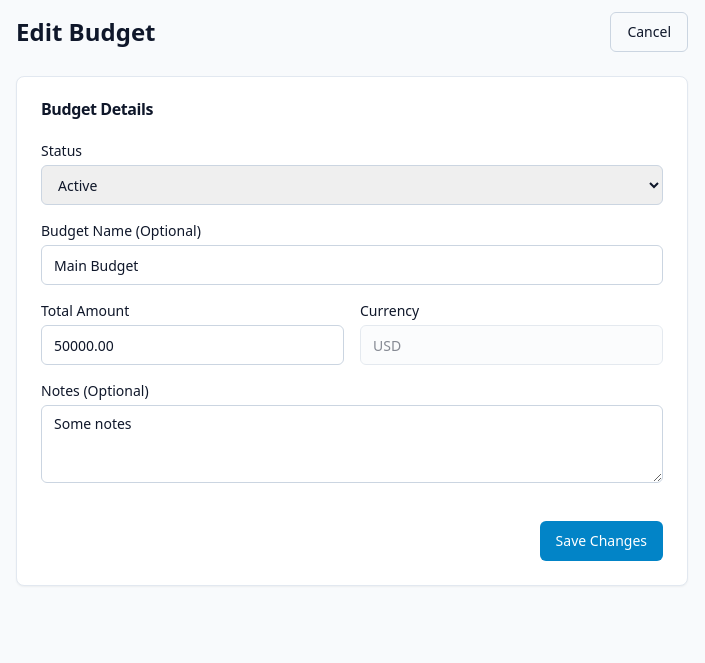
Test: Budgets Module › Edit Page › blocks submission on invalid monetary input
This screenshot has width=705, height=663.
Replace the text in the number field labelled "Total Amount" with "invalid-123.45" at {"x": 192, "y": 345}, box left=41, top=325, right=344, bottom=365
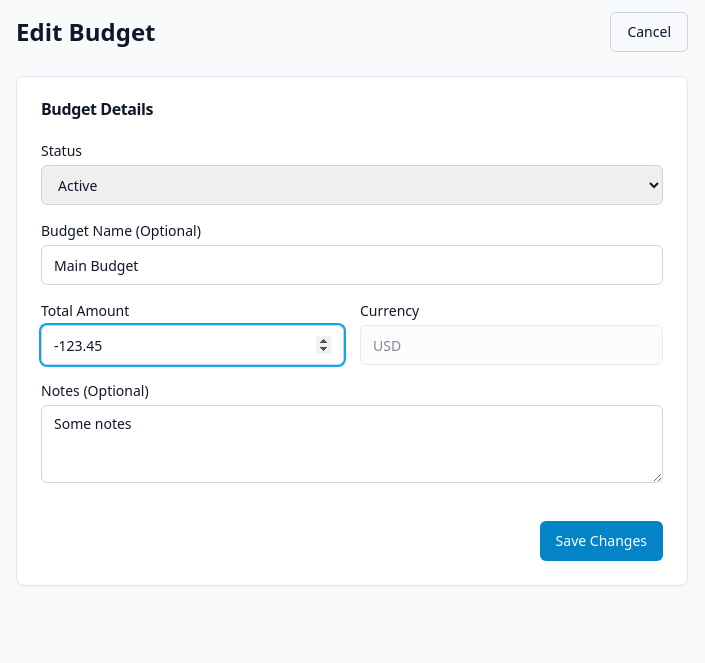
Submit the form named "save changes", box left=41, top=141, right=663, bottom=561
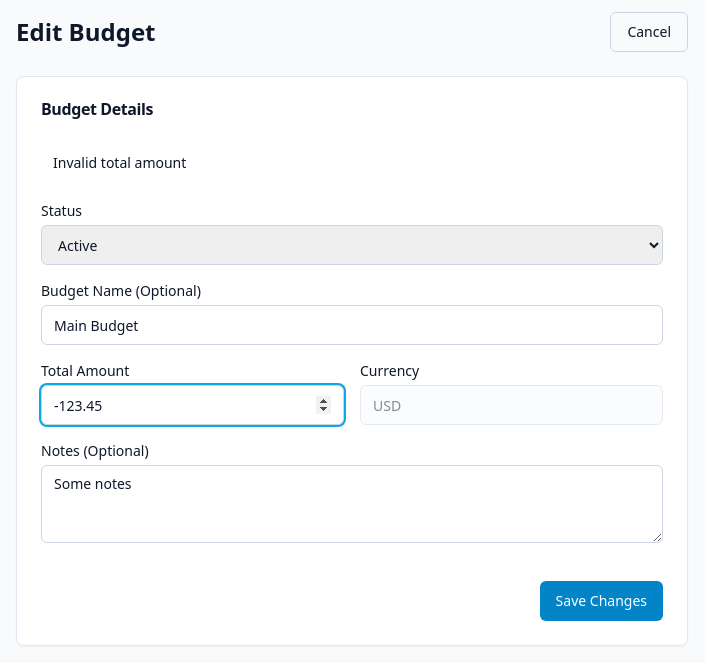
Result: the text "Invalid total amount" is shown at left=53, top=153, right=186, bottom=172
